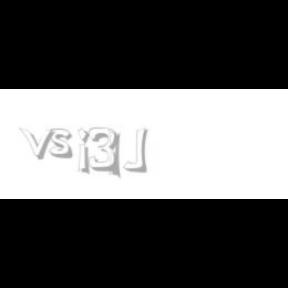3: (88, 128, 120, 172)
I: (109, 128, 122, 180)
J: (122, 128, 148, 172)
i: (77, 128, 93, 176)
s: (49, 128, 77, 160)
v: (19, 128, 59, 160)
